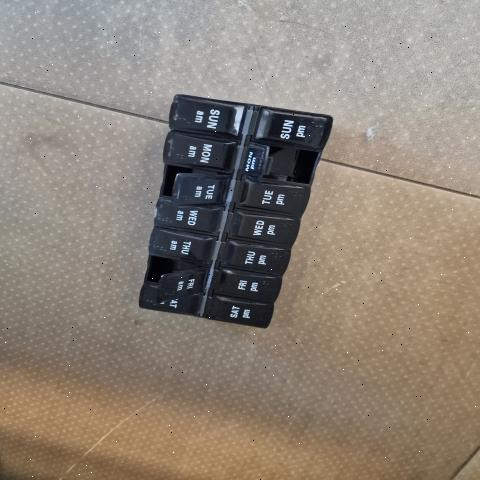Open: (253, 141, 323, 184), (160, 164, 223, 199), (144, 256, 208, 285)
